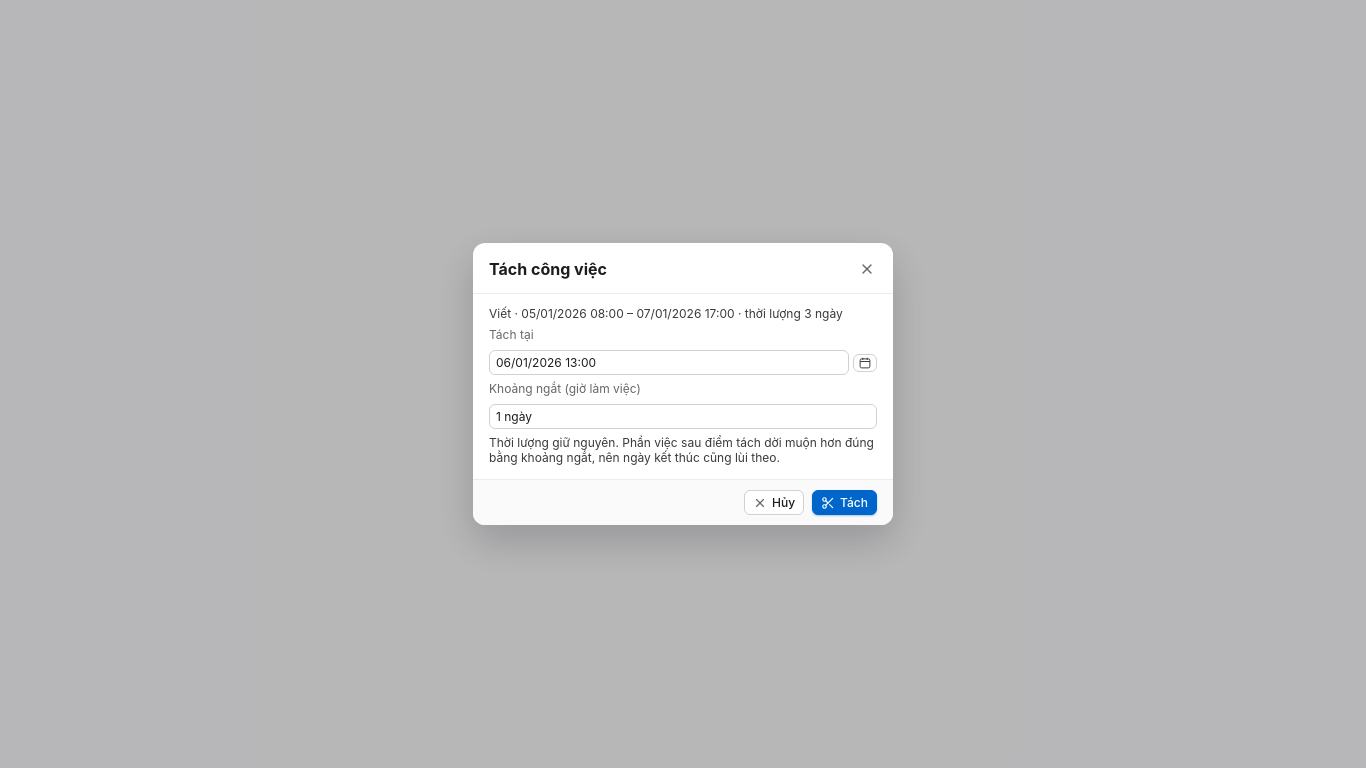
Test: SplitDialog › shows Vietnamese by default and rejects an empty gap
Expected: the heading "Tách công việc" is shown, [489, 259, 607, 279]
Clear the field named "Khoảng ngắt" at (683, 416), box [489, 404, 877, 429]
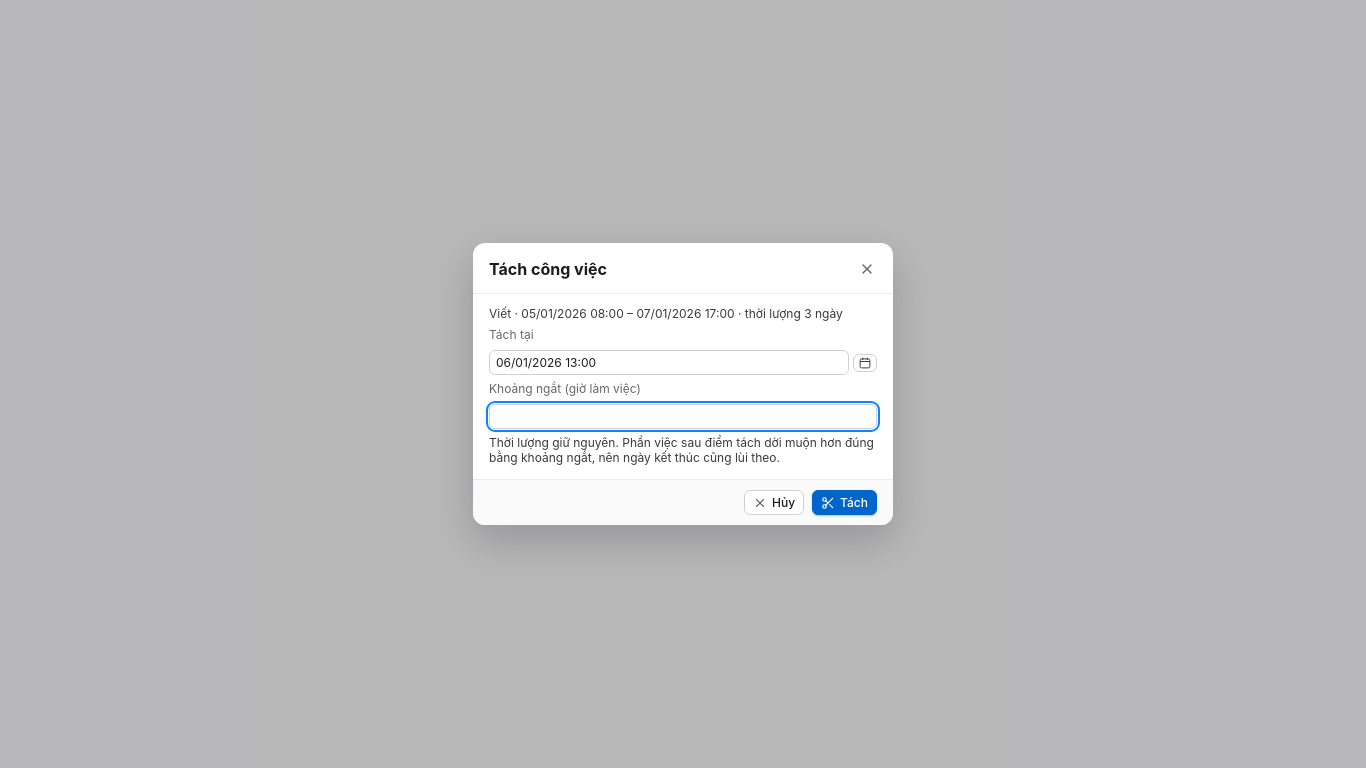
Click the button "Tách" at (845, 502), box [812, 490, 877, 515]
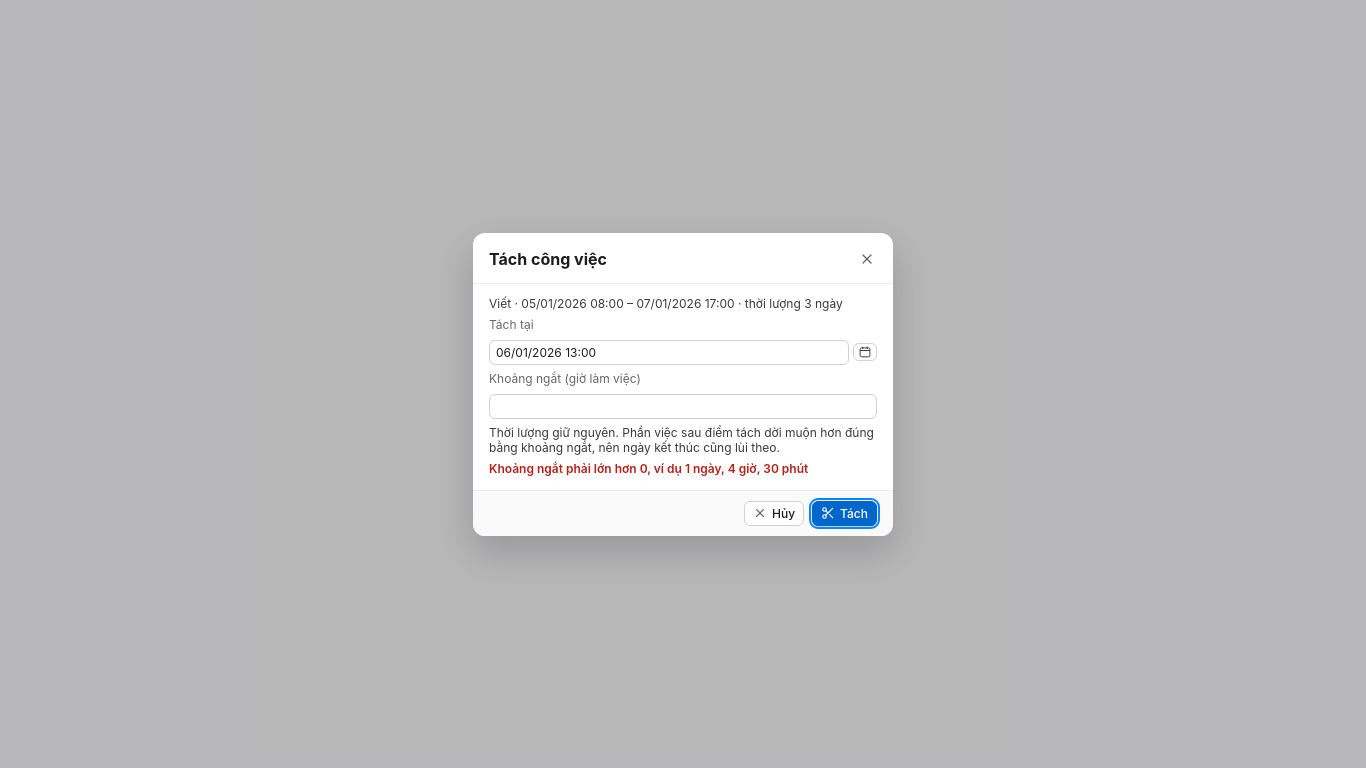
Now the text "Khoảng ngắt phải lớn hơn 0, ví dụ 1 ngày, 4 giờ, 30 phút" is shown, box [489, 460, 808, 476]
